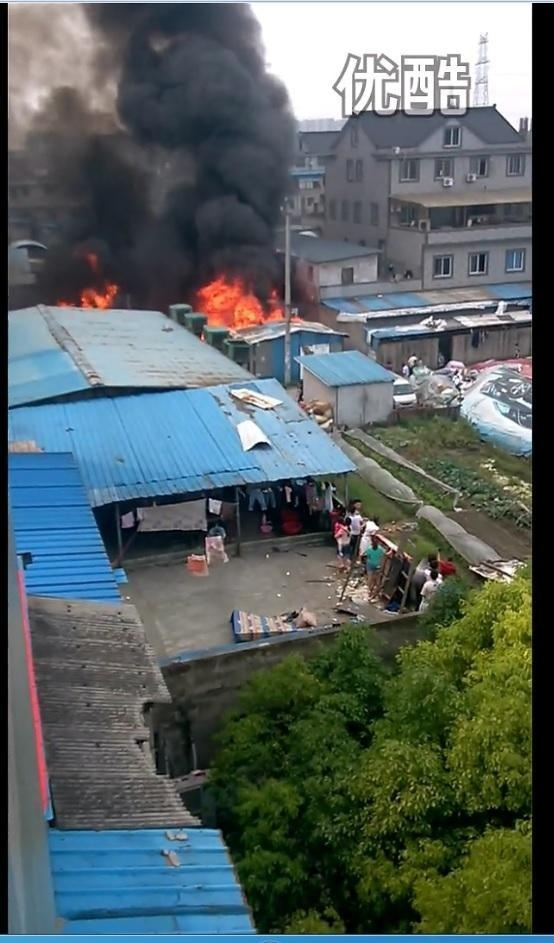fire: (194, 271, 294, 330), (58, 264, 121, 309)
